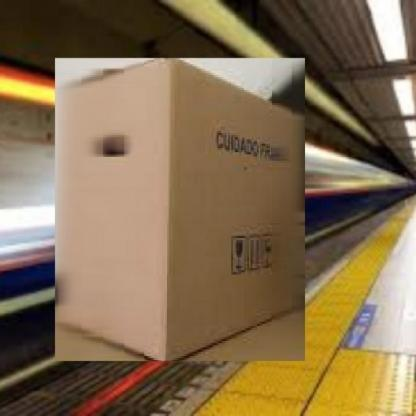box: (51, 53, 310, 366)
